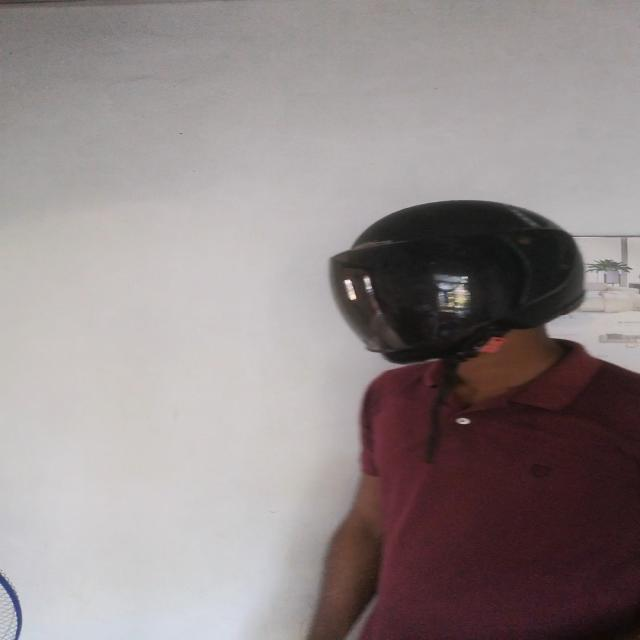Helmet_Wearer: (302, 192, 640, 422)
